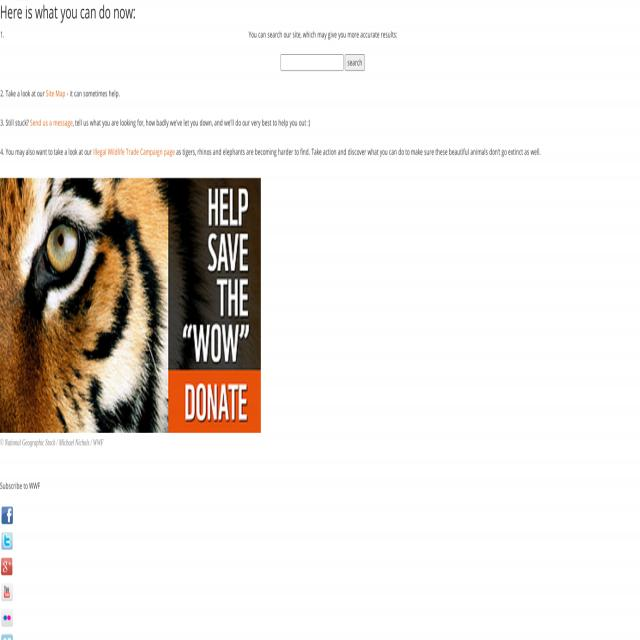button: (0, 178, 261, 433), (345, 54, 365, 71), (1, 531, 13, 554), (1, 582, 13, 605), (1, 506, 13, 528), (1, 557, 13, 579), (1, 609, 13, 630)
field: (280, 54, 344, 71)
